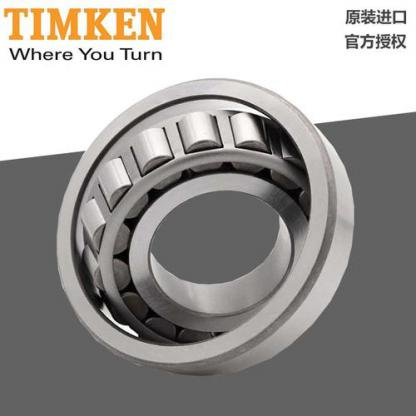FOD: (51, 69, 362, 379)
